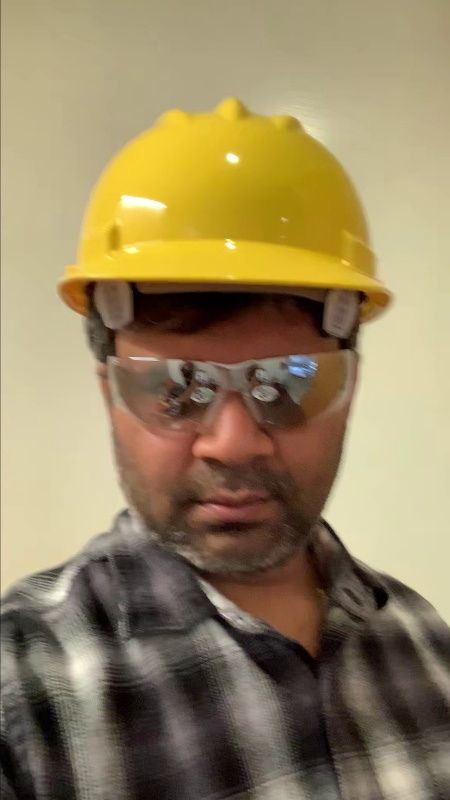glasses: (98, 347, 370, 442)
helmet: (42, 90, 407, 323)
